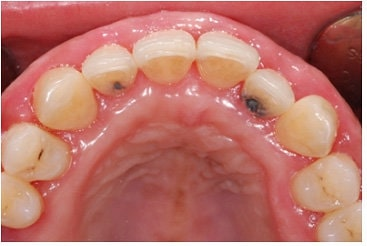UL1BC_decay: (292, 152, 359, 210)
UL2BC_decay: (319, 206, 361, 242)
ULCI_healthy: (196, 32, 257, 85)
ULC_healthy: (278, 96, 335, 157)
ULLI_decay: (242, 69, 295, 118)
UR1BC_decay: (3, 124, 67, 179)
UR2BC_healthy: (1, 179, 40, 228)
URCI_healthy: (133, 32, 195, 82)
URC_healthy: (33, 67, 95, 129)
URLI_decay: (81, 45, 135, 93)
